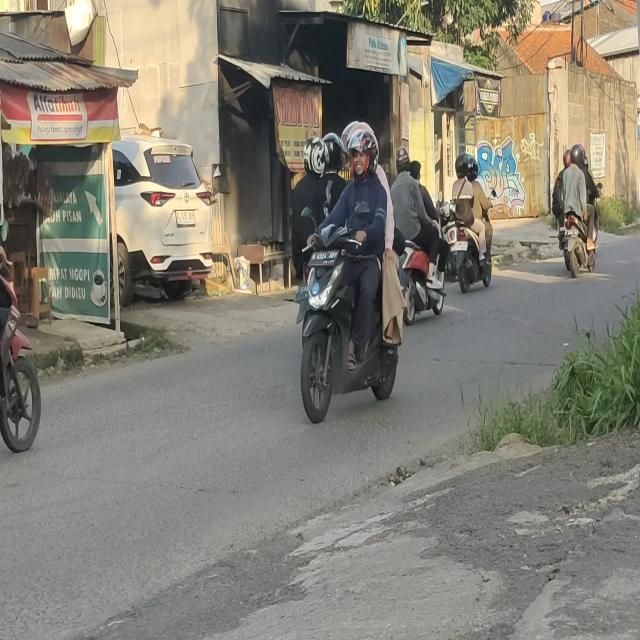helmet: (353, 130, 378, 174), (344, 121, 371, 156), (304, 136, 325, 174), (326, 132, 344, 172), (396, 146, 410, 172), (455, 155, 468, 178), (468, 154, 478, 180), (571, 146, 582, 166), (412, 161, 422, 181), (563, 147, 571, 168), (579, 143, 585, 162)
